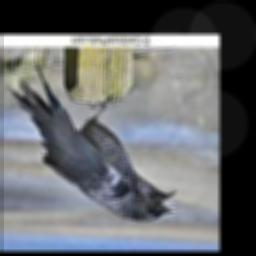Crow: (9, 62, 180, 223)
